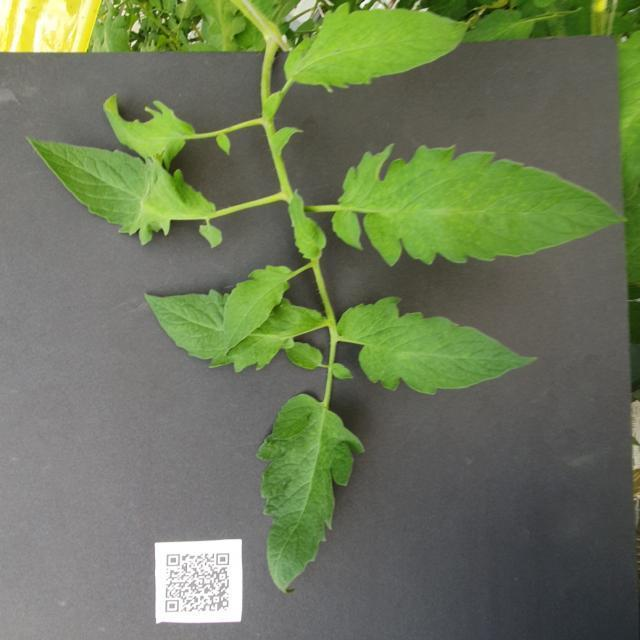Healthy: (331, 145, 627, 267), (256, 392, 365, 595), (338, 295, 538, 397), (285, 2, 470, 94), (222, 265, 292, 354)
